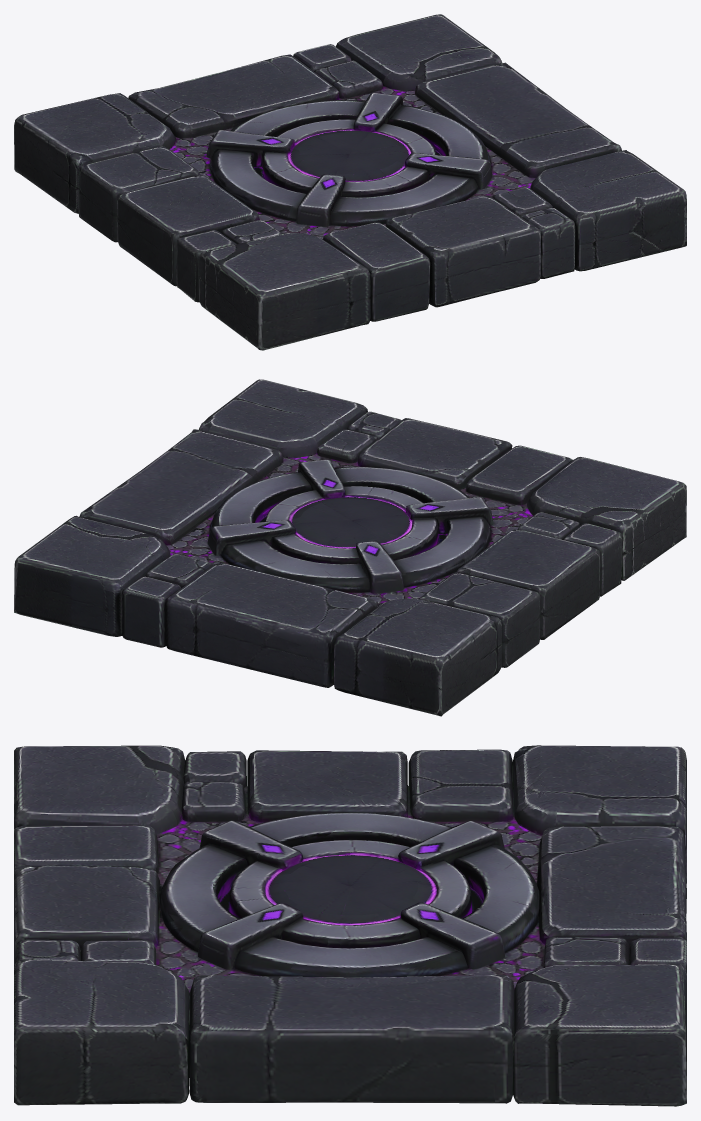
The model's file is void_armed.glb.
3 views of the same model, one above another, from view 1: azimuth 30°, elevation 25°; view 2: azimuth 150°, elevation 25°; view 3: azimuth 270°, elevation 25° (orthographic). The views are drawn at different scales.
Size of the model in its own units: 1 by 0.1372 by 1.
1 material, 1 textured.
